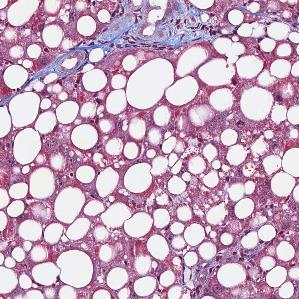fibrosis: (109, 7, 220, 54)
